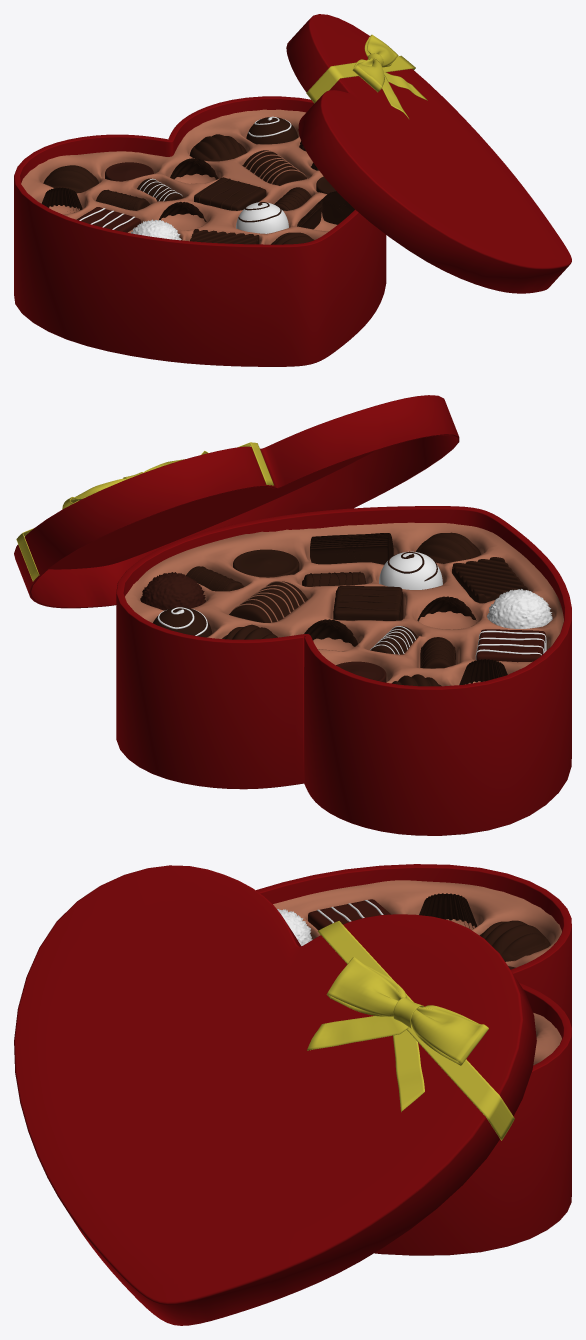
File: heartbox.glb
3 views of the same model, one above another, from view 1: azimuth 30°, elevation 25°; view 2: azimuth 150°, elevation 25°; view 3: azimuth 270°, elevation 25° (orthographic). The views are drawn at different scales.
Visible parts, largest first — view 1: Circle.035, BASE HEART.013, Plane.007, Cube.019, Circle.028, Cube.024, Circle.024, Cube.018, Cube.023, Cube.025, Cube.020, Plane.006 (+8 smaller); view 2: Circle.035, BASE HEART.013, Cube.019, Circle.024, Plane.006, Cube.020, Cube.021, Circle.028, Cube.024, Cube.026, Circle.032, Plane.007 (+11 smaller); view 3: BASE HEART.013, Circle.035, Plane.007, Cube.025, Cube.020, Circle.025, Cube.021.
Part boxes in pixels (x1,y1,x2,y2): Circle.035: (14,96,386,366); BASE HEART.013: (286,14,571,293); Plane.007: (306,34,427,119); Cube.019: (194,177,266,210); Circle.028: (242,150,307,185); Cube.024: (236,202,288,233); Circle.024: (297,191,354,229); Cube.018: (189,134,246,161); Cube.023: (246,116,298,144); Cube.025: (43,165,98,193); Cube.020: (76,207,140,232); Plane.006: (190,229,259,244); Circle.035: (116,506,571,835); BASE HEART.013: (14,395,459,608); Cube.019: (333,585,403,620); Circle.024: (310,533,393,564); Plane.006: (452,557,527,603); Cube.020: (475,629,546,662); Cube.021: (487,589,552,628); Circle.028: (229,581,307,622); Cube.024: (379,551,442,589); Cube.026: (140,572,205,610); Circle.032: (233,549,299,577); Plane.007: (16,442,274,581); BASE HEART.013: (14,865,536,1325); Circle.035: (256,864,571,1255); Plane.007: (307,921,514,1140); Cube.025: (479,920,550,961); Cube.020: (308,899,390,930); Circle.025: (419,893,477,928); Cube.021: (277,909,312,945).
Bounding box in the file's own units: 70.05 × 32.94 × 53.88.
